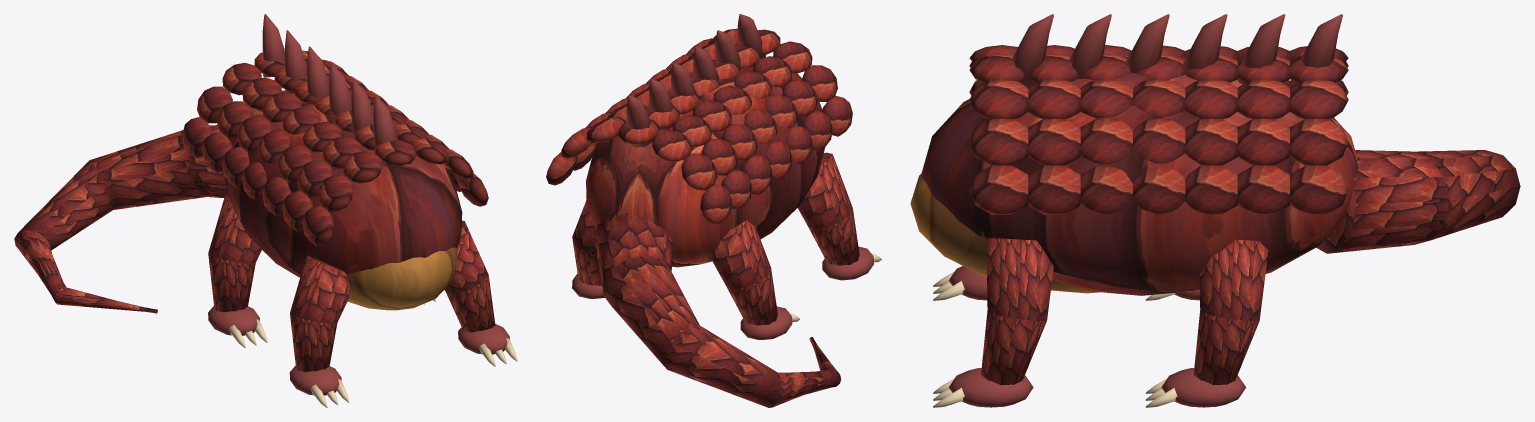
Rendered from dragon_body.glb.
3 renders of one model, left to right at view 1: azimuth 30°, elevation 25°; view 2: azimuth 150°, elevation 25°; view 3: azimuth 270°, elevation 25°, orthographic. The views are drawn at different scales.
Parts seen in each view (by area): view 1: Dragon powerful torso, Curled volumetric dragon tail, Gripping bent dragon leg, Warm plated underside, Gripping bent dragon leg.001, Gripping bent dragon leg.002, Broad hand-painted dorsal scale.043, Dragon foot pad.001, Dragon foot pad, Dragon foot pad.002, Broad hand-painted dorsal scale.044, Broad hand-painted dorsal scale.042 (+28 smaller); view 2: Curled volumetric dragon tail, Dragon powerful torso, Gripping bent dragon leg.001, Gripping bent dragon leg, Gripping bent dragon leg.003, Broad hand-painted dorsal scale.001, Broad hand-painted dorsal scale.002, Broad hand-painted dorsal scale, Dragon foot pad.001, Dragon foot pad, Broad hand-painted dorsal scale.043, Broad hand-painted dorsal scale.015 (+33 smaller); view 3: Dragon powerful torso, Curled volumetric dragon tail, Gripping bent dragon leg.002, Gripping bent dragon leg.003, Warm plated underside, Broad hand-painted dorsal scale.048, Broad hand-painted dorsal scale.006, Broad hand-painted dorsal scale.047, Broad hand-painted dorsal scale.013, Broad hand-painted dorsal scale.041, Broad hand-painted dorsal scale.005, Broad hand-painted dorsal scale.020 (+30 smaller).
Part boxes in pixels (<box>): Dragon powerful torso: <box>222,90,462,277</box>; Curled volumetric dragon tail: <box>14,125,226,313</box>; Gripping bent dragon leg: <box>290,255,349,371</box>; Warm plated underside: <box>347,247,457,310</box>; Gripping bent dragon leg.001: <box>208,194,261,312</box>; Gripping bent dragon leg.002: <box>444,220,495,332</box>; Broad hand-painted dorsal scale.043: <box>317,175,353,211</box>; Dragon foot pad.001: <box>208,306,259,335</box>; Dragon foot pad: <box>289,366,341,395</box>; Dragon foot pad.002: <box>458,324,509,354</box>; Broad hand-painted dorsal scale.044: <box>343,151,382,183</box>; Broad hand-painted dorsal scale.042: <box>302,205,334,246</box>; Curled volumetric dragon tail: <box>595,213,841,407</box>; Dragon powerful torso: <box>586,66,825,267</box>; Gripping bent dragon leg.001: <box>711,219,777,325</box>; Gripping bent dragon leg: <box>798,152,859,265</box>; Gripping bent dragon leg.003: <box>572,200,601,285</box>; Broad hand-painted dorsal scale.001: <box>681,153,717,190</box>; Broad hand-painted dorsal scale.002: <box>652,129,691,162</box>; Broad hand-painted dorsal scale: <box>700,184,731,224</box>; Dragon foot pad.001: <box>740,306,792,339</box>; Dragon foot pad: <box>822,246,873,280</box>; Broad hand-painted dorsal scale.043: <box>802,65,837,101</box>; Broad hand-painted dorsal scale.015: <box>721,124,757,160</box>; Dragon powerful torso: <box>921,56,1358,295</box>; Curled volumetric dragon tail: <box>1316,150,1520,253</box>; Gripping bent dragon leg.002: <box>981,238,1053,385</box>; Gripping bent dragon leg.003: <box>1194,239,1268,385</box>; Warm plated underside: <box>910,174,1098,293</box>; Broad hand-painted dorsal scale.048: <box>969,165,1028,214</box>; Broad hand-painted dorsal scale.006: <box>1290,165,1348,214</box>; Broad hand-painted dorsal scale.047: <box>969,118,1028,165</box>; Broad hand-painted dorsal scale.013: <box>1237,165,1289,214</box>; Broad hand-painted dorsal scale.041: <box>1028,165,1080,214</box>; Broad hand-painted dorsal scale.005: <box>1290,118,1348,165</box>; Broad hand-painted dorsal scale.020: <box>1185,165,1237,214</box>.
Size of the model in its own units: 4.36 by 3.4 by 5.59.
7 materials, 5 textured.
